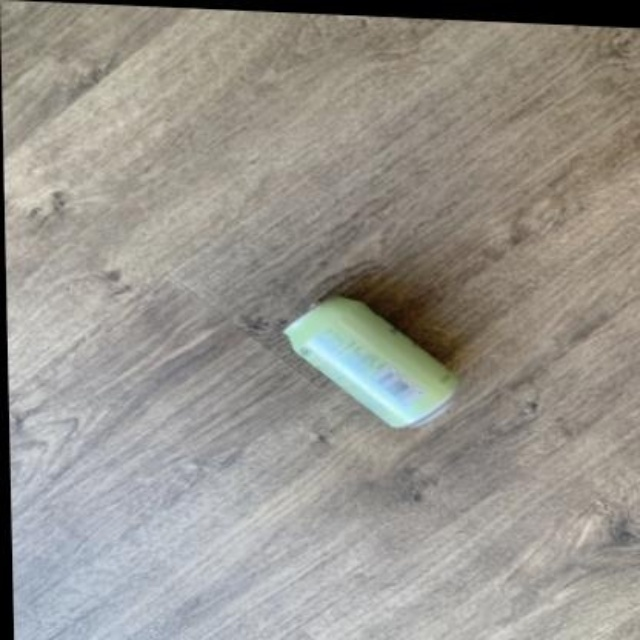trash: (285, 297, 455, 426)
